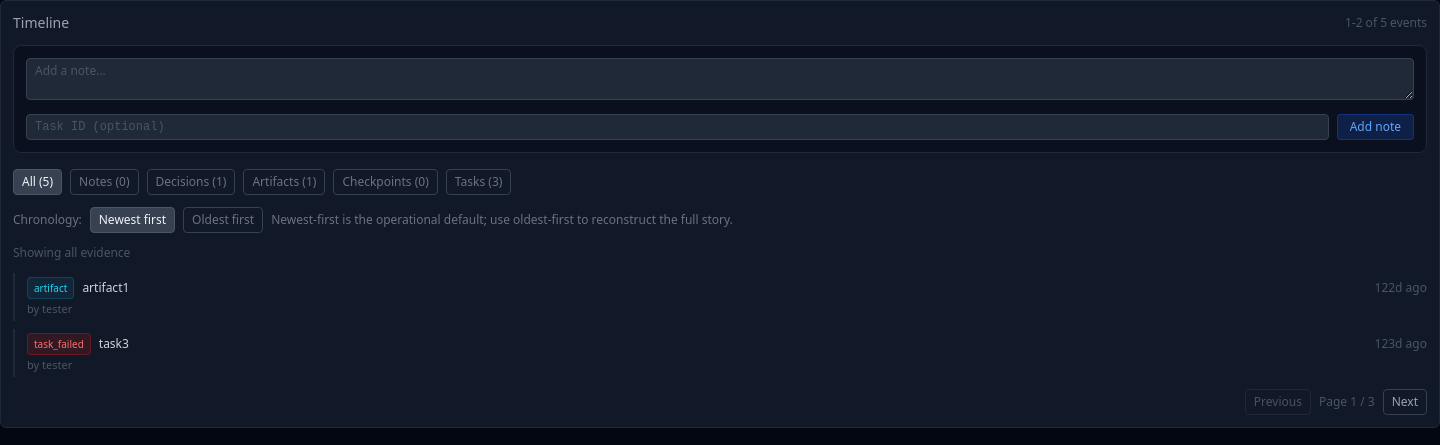
Test: ExperimentTimelineCard › resets to first page after applying a filter
Click the button "Next". click: (1405, 402)
box: [1383,389,1427,415]
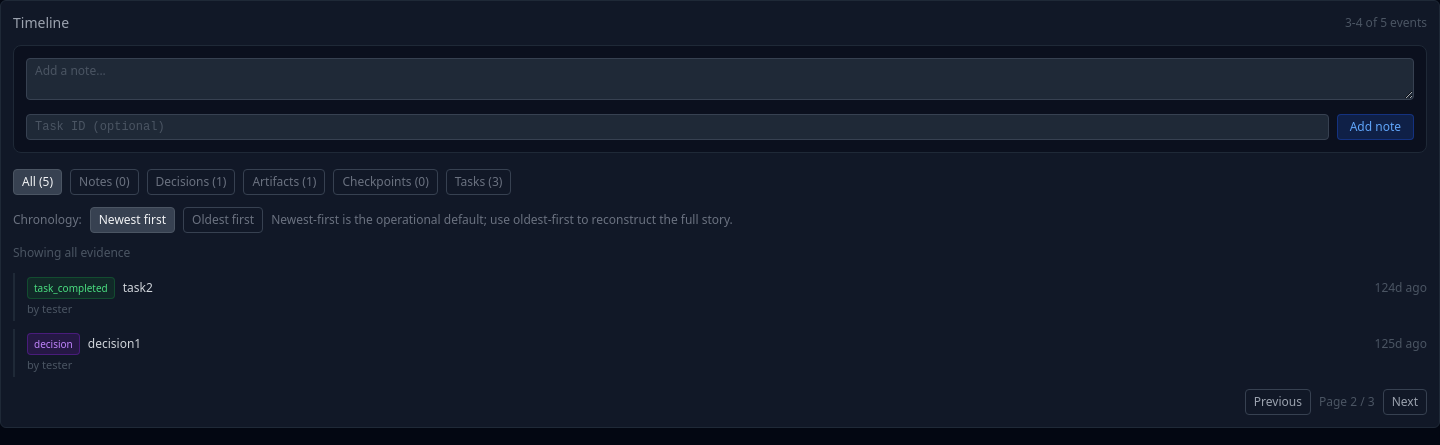
Expected: the text "3-4 of 5 events" is shown, [1345,15,1427,31]
Click the button "Artifacts (1)". click: (284, 182)
box: [243,169,325,195]
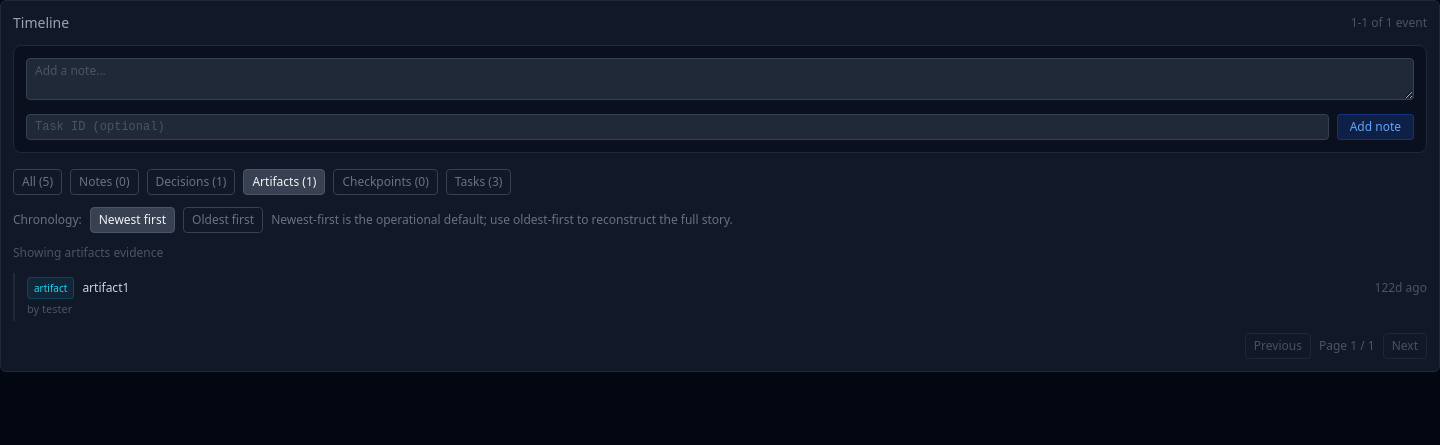
Expected: the text "Showing artifacts evidence" is shown, [13,244,163,261]
Expected: the text "1-1 of 1 event" is shown, [1351,15,1427,31]
Expected: the button "Previous" is disabled, [1245,333,1311,359]
